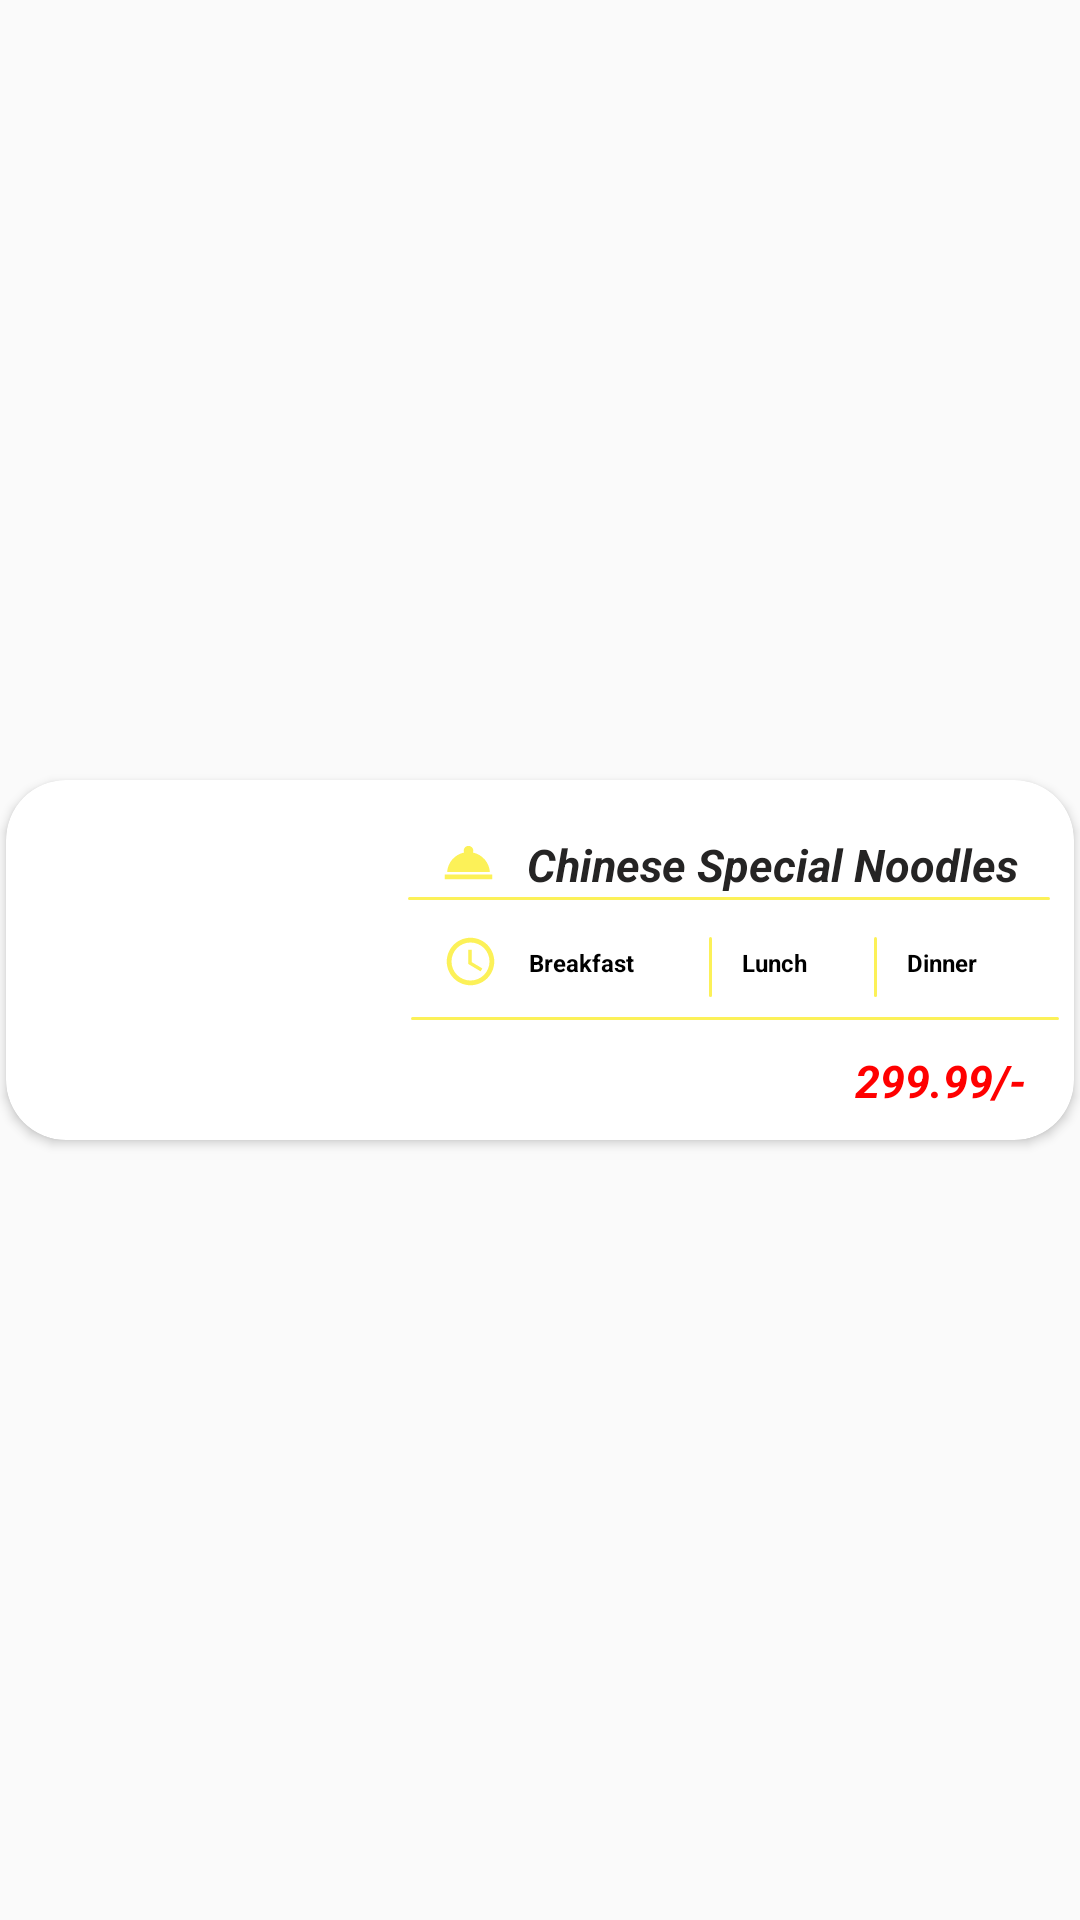

Icons on this 1080w x 1920h Android screen, each with its box as (x1, y1, x2, y2):
access time: (446, 937, 495, 986)
room service: (444, 846, 493, 880)
